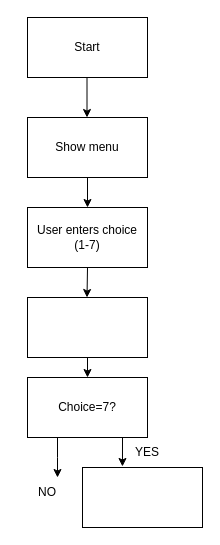
This 220x545 diagram has some shape labels left out. Each missing label, with the box of its shape:
End: (82, 466, 202, 528)
Perform action (Create/View/Update?Delete/Search/Count): (26, 296, 148, 358)
